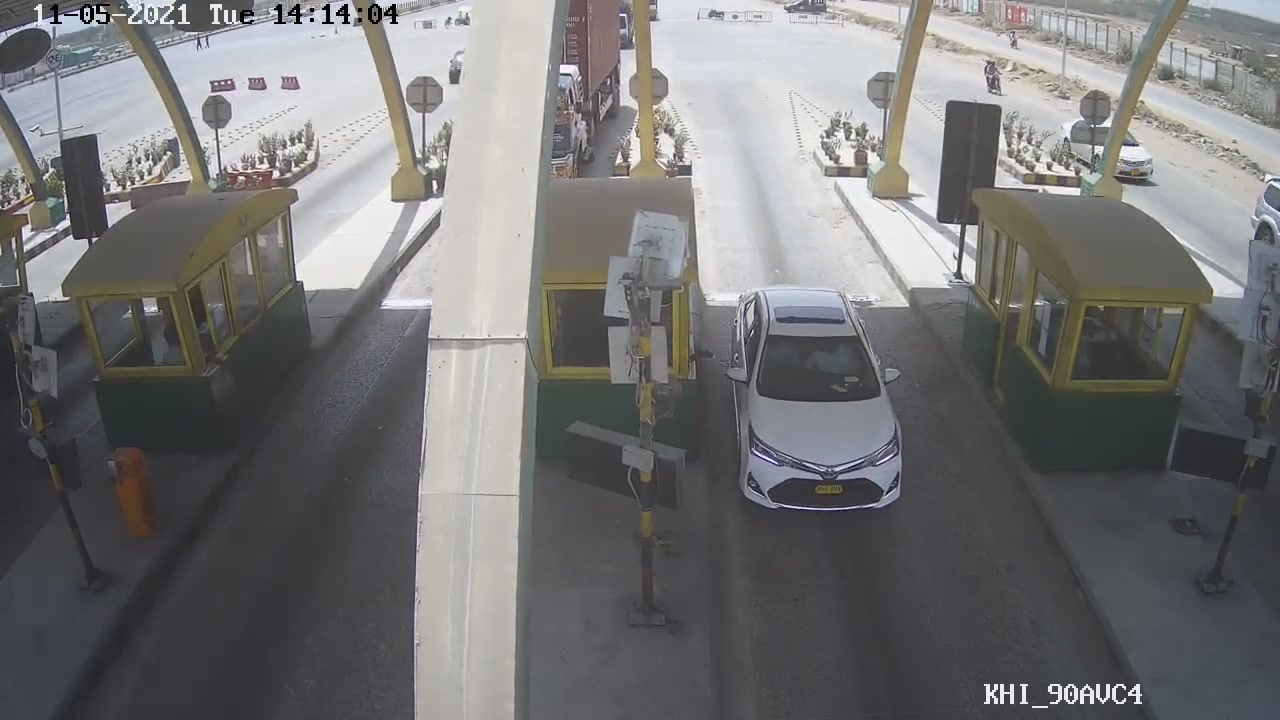F1: (721, 287, 908, 515)
